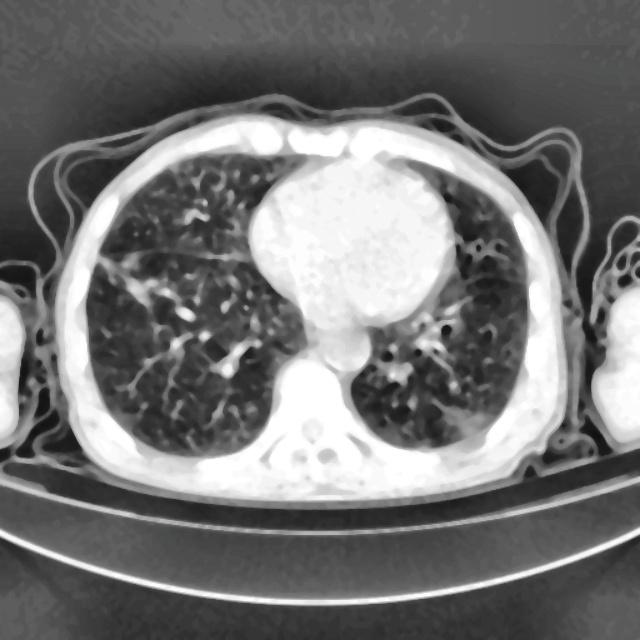covid: (40, 102, 587, 505)
